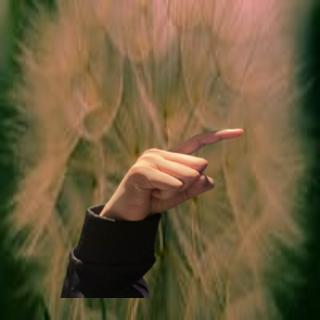WHY: (99, 110, 249, 223)
